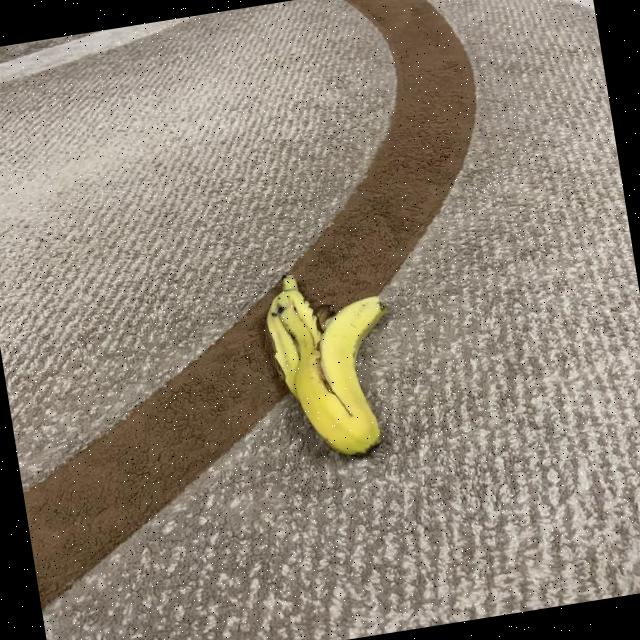banana-peel: (256, 259, 408, 468)
